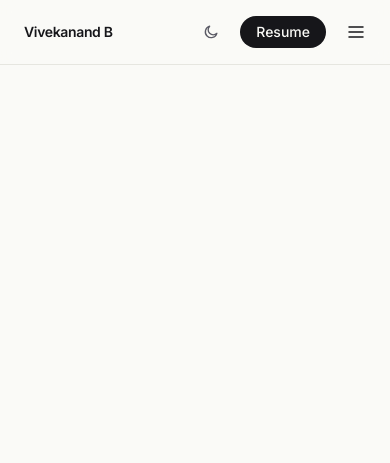
Scenario: Nav mobile menu › toggles the menu and aria-expanded on button click
Click the button named "open menu" at (356, 32), box [342,18,370,46]
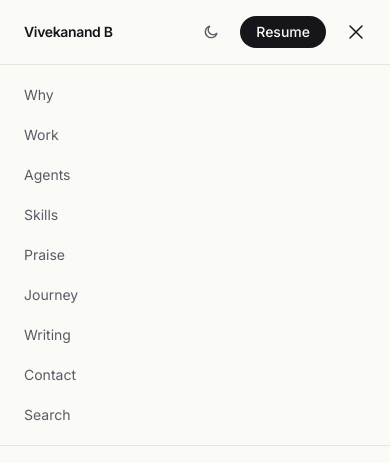
Check: the button named "close menu" is expanded
Check: the list with id "mobile-menu" is shown
Click the button named "close menu" at (356, 32), box [342,18,370,46]
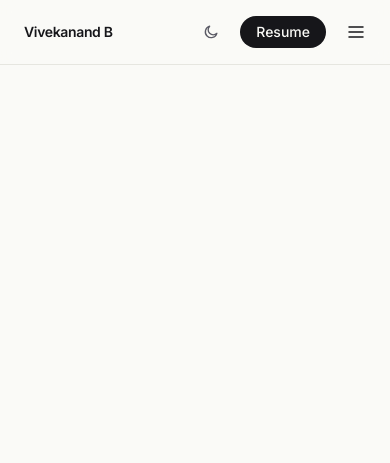
Check: the list with id "mobile-menu" is gone
